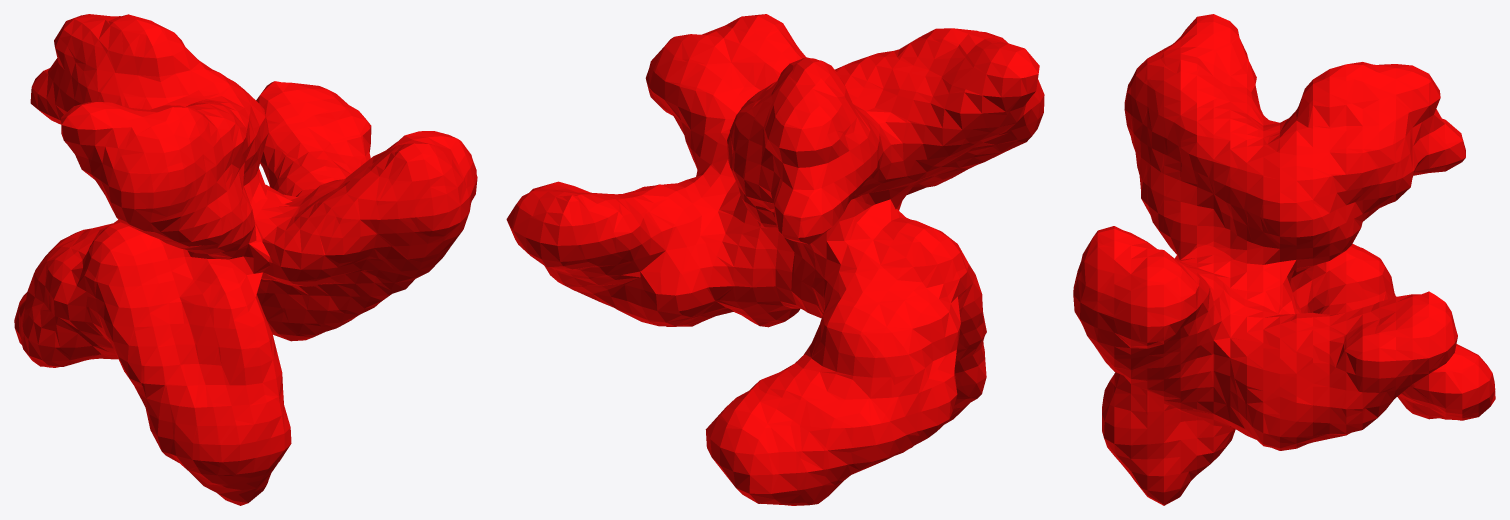
Rendered from hscB_coarse.dae.
3 views of the same model, side by side, from view 1: azimuth 30°, elevation 25°; view 2: azimuth 150°, elevation 25°; view 3: azimuth 270°, elevation 25° (orthographic). The views are drawn at different scales.
Visible parts, largest first — view 1: hscB; view 2: hscB; view 3: hscB.
Part boxes in pixels (box(x1,y1,x2,y2)): hscB: box(14, 14, 477, 505); hscB: box(506, 14, 1044, 505); hscB: box(1073, 14, 1495, 505).
Bounding box in the file's own units: 81.85 × 86.18 × 75.99.
